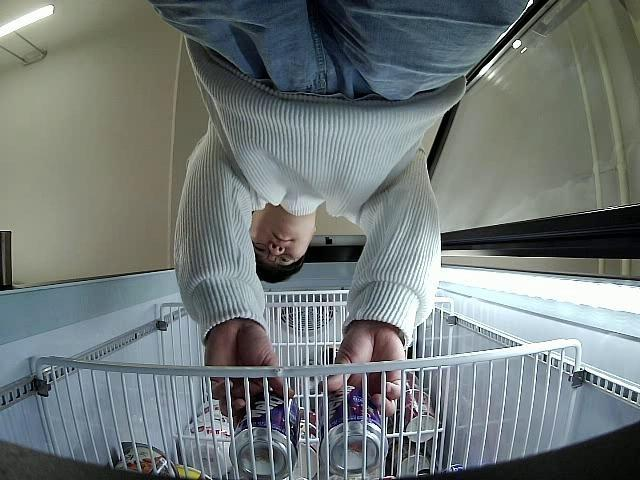14_welchsGrape: (318, 382, 389, 475), (228, 392, 302, 480)
